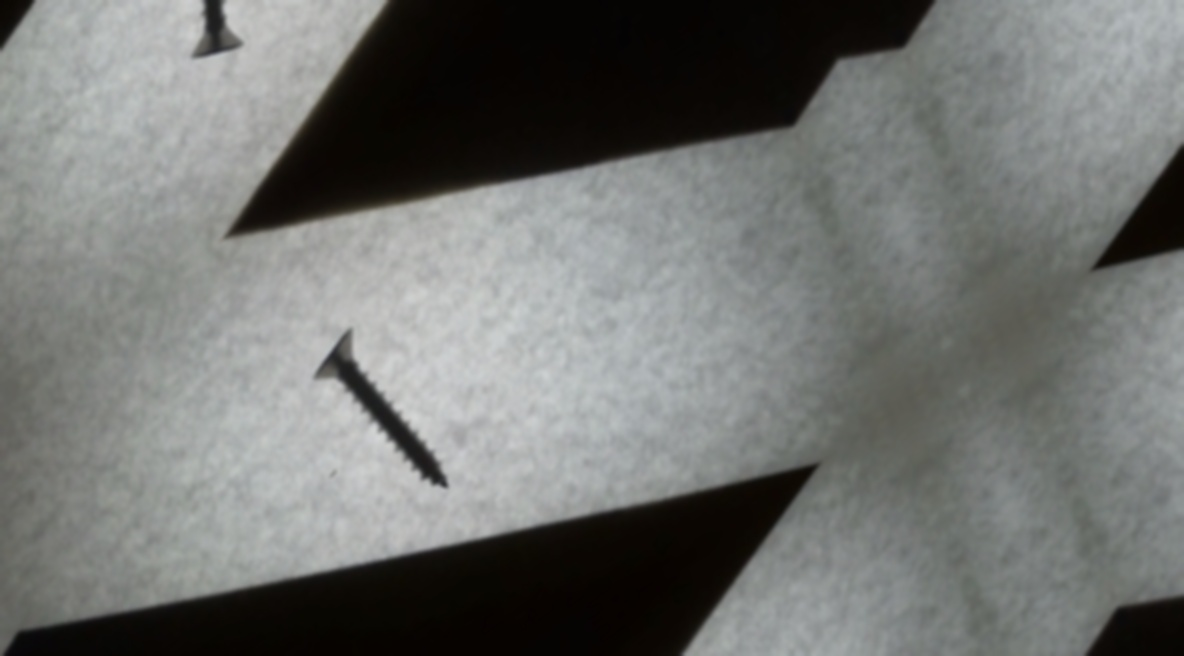S001: (294, 279, 475, 556)
